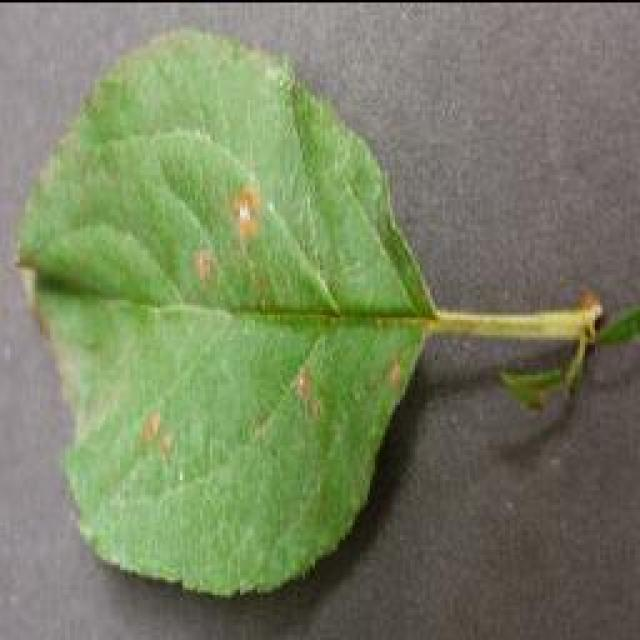apple healthy: (13, 25, 605, 600)
